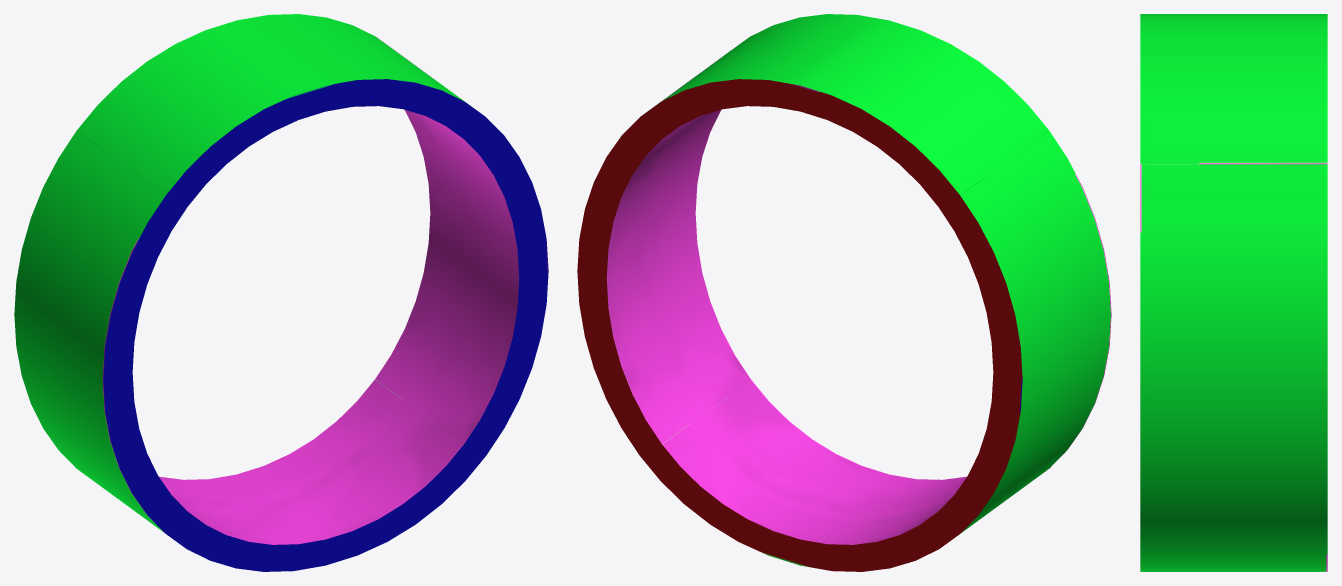
3 renders of one model, left to right at view 1: azimuth 30°, elevation 25°; view 2: azimuth 150°, elevation 25°; view 3: azimuth 270°, elevation 25°, orthographic. The views are drawn at different scales.
Visible parts, largest first — view 1: Text; view 2: Text; view 3: Text.
Part boxes in pixels (x1,y1,x2,y2): Text: (14, 14, 548, 571); Text: (577, 14, 1111, 571); Text: (1140, 14, 1327, 571).
Bounding box in the file's own units: 0.5784 × 0.5959 × 0.2.
1 material, 1 textured.
